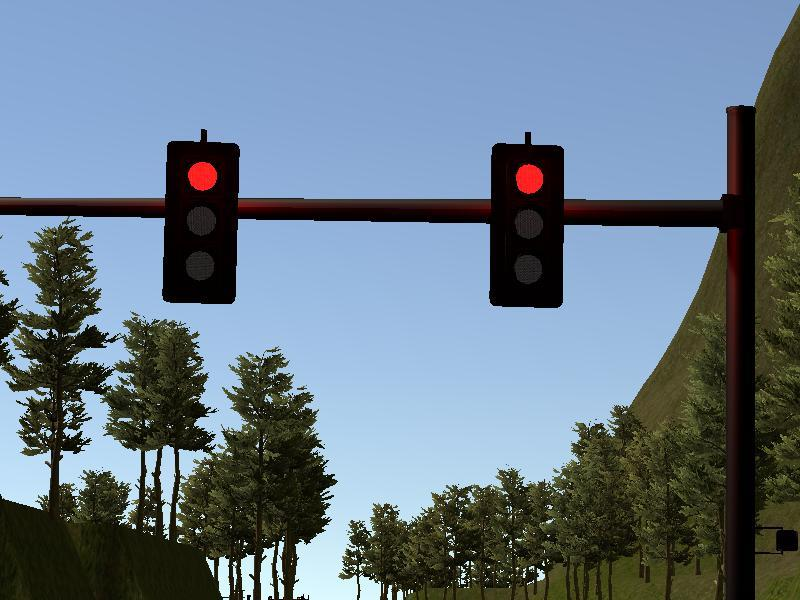Red: (165, 142, 236, 302), (493, 144, 562, 308)
